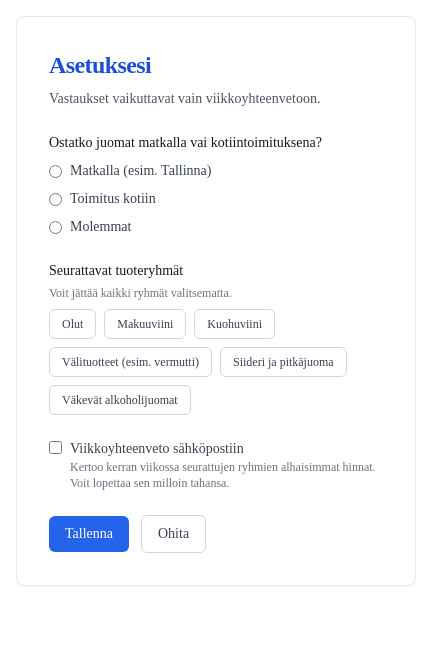
Test: OnboardingPage › renders the inline generic error when the save fails and does not route
Click the button with test id "onboarding-save" at (89, 534), box [49,516,129,552]
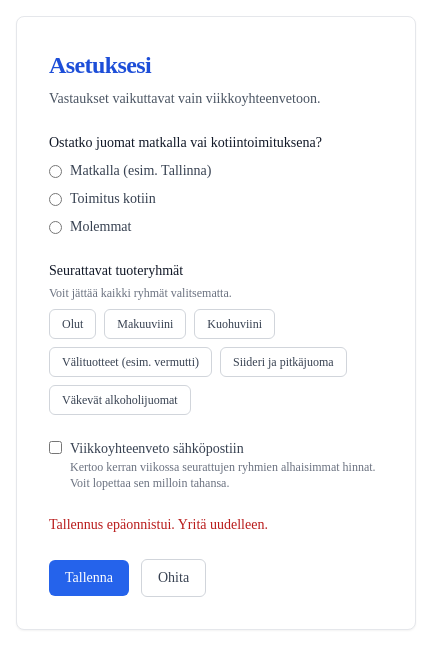
expect the message "Tallennus epäonnistui. Yritä uudelleen." is shown: met, box [49,517,268,532]
